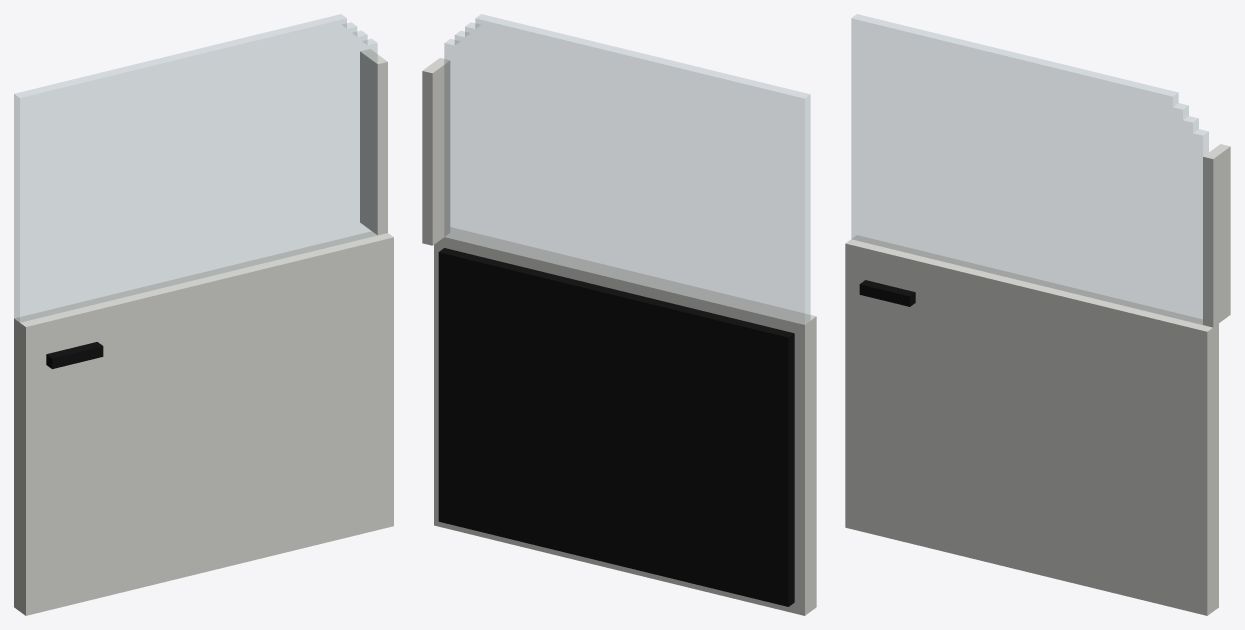
Rendered from panel_van_front_door.glb.
The picture shows the model from 3 angles, left to right: view 1: azimuth 30°, elevation 25°; view 2: azimuth 150°, elevation 25°; view 3: azimuth 330°, elevation 25°; orthographic projection. The views are drawn at different scales.
Visible parts, largest first — view 1: body:compound; view 2: body:compound; view 3: body:compound.
Boxes of the visible parts, left/top/right/bottom form: body:compound: left=14, top=14, right=393, bottom=615; body:compound: left=422, top=14, right=816, bottom=615; body:compound: left=845, top=14, right=1230, bottom=615.
Bounding box in the file's own units: 1.12 × 1.5 × 0.1562.
